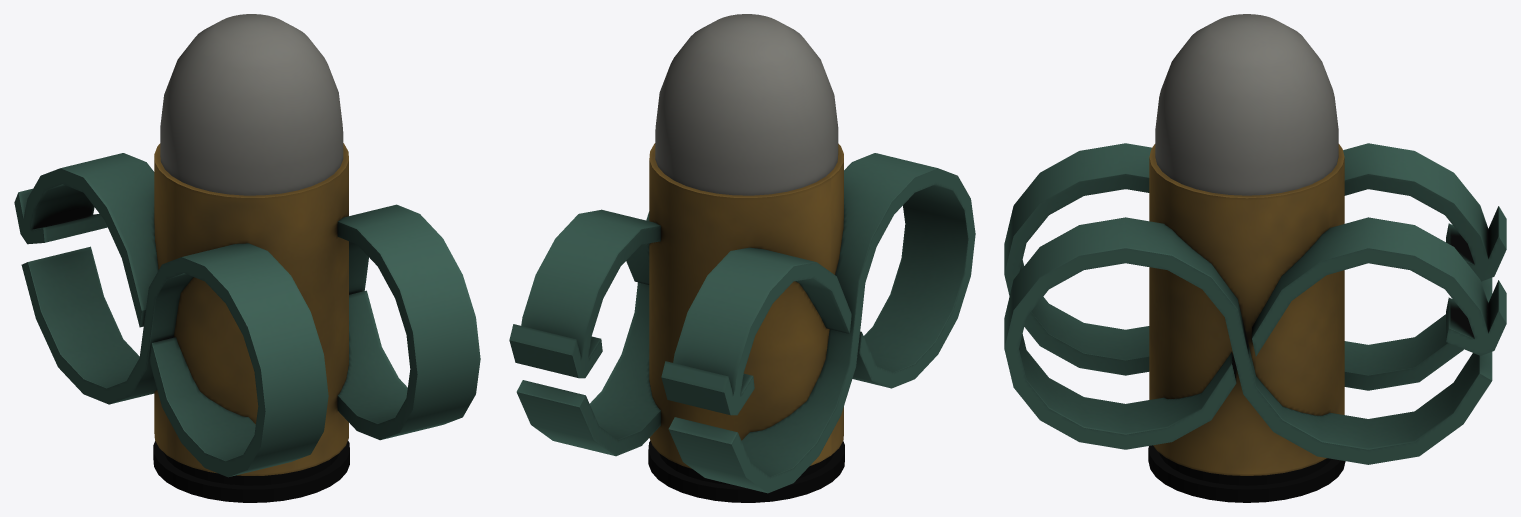
Rendered from AmmunitionBlessing.fbx.
The picture shows the model from 3 angles, left to right: view 1: azimuth 30°, elevation 25°; view 2: azimuth 150°, elevation 25°; view 3: azimuth 270°, elevation 25°; orthographic projection.
Parts seen in each view (by area): view 1: infinite ammo; view 2: infinite ammo; view 3: infinite ammo.
Part boxes in pixels (<box>): infinite ammo: <box>14,14,480,502</box>; infinite ammo: <box>509,14,975,502</box>; infinite ammo: <box>1004,14,1506,502</box>.
Bounding box in the file's own units: 232 × 450 × 470.
